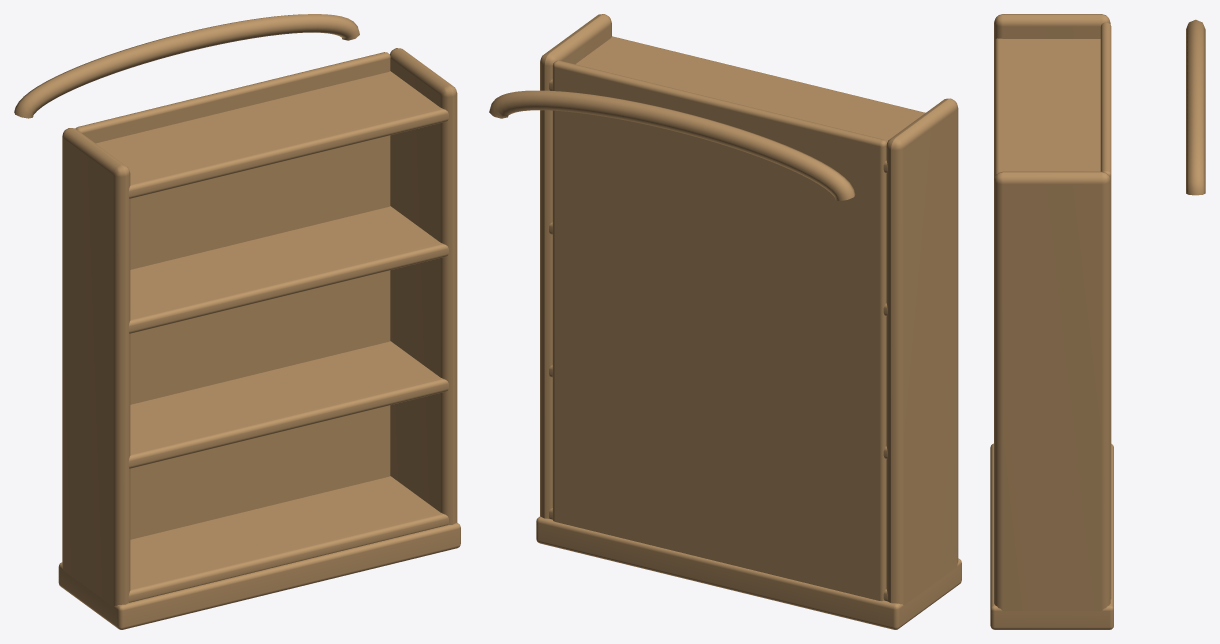
File: botanic-bookcase.glb
3 views of the same model, side by side, from view 1: azimuth 30°, elevation 25°; view 2: azimuth 150°, elevation 25°; view 3: azimuth 270°, elevation 25° (orthographic). The views are drawn at different scales.
Parts seen in each view (by area): view 1: Side.006; view 2: Side.006; view 3: Side.006.
Boxes of the visible parts, left/top/right/bottom form: Side.006: left=14, top=14, right=460, bottom=629; Side.006: left=489, top=14, right=961, bottom=629; Side.006: left=990, top=14, right=1205, bottom=629.
Bounding box in the file's own units: 2.19 × 2.92 × 1.2.
